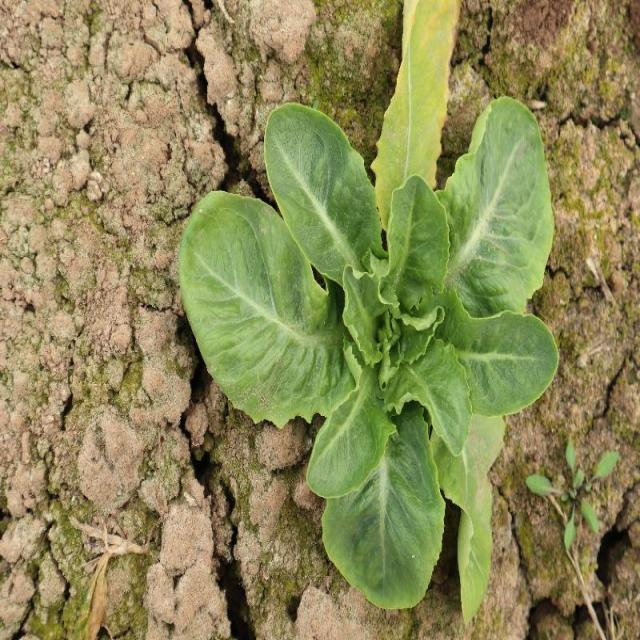crop: (178, 98, 558, 608)
